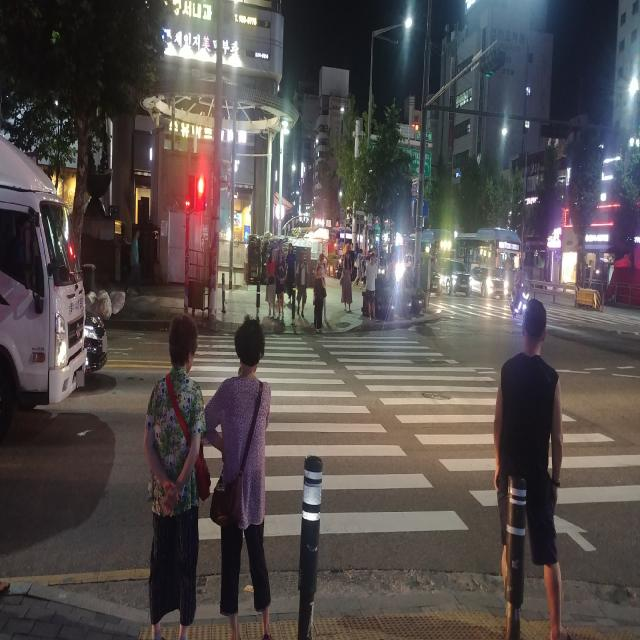빨간불: (196, 178, 204, 209)
횡단보도: (188, 332, 640, 553), (434, 300, 595, 316)
